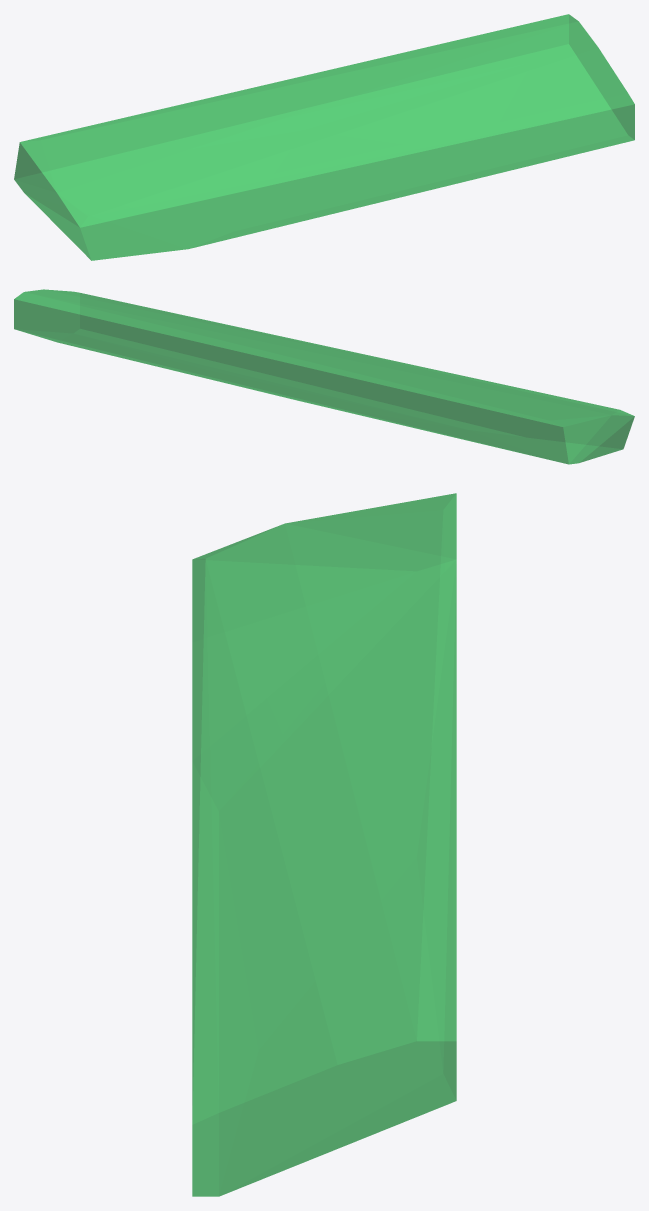
The picture shows the model from 3 angles, top to bottom: view 1: azimuth 30°, elevation 25°; view 2: azimuth 150°, elevation 25°; view 3: azimuth 270°, elevation 25°; orthographic projection. The views are drawn at different scales.
Visible parts, largest first — view 1: Shape_IndexedFaceSet.001_Shape_IndexedFaceSet.13073; view 2: Shape_IndexedFaceSet.001_Shape_IndexedFaceSet.13073; view 3: Shape_IndexedFaceSet.001_Shape_IndexedFaceSet.13073.
Part boxes in pixels (x1,y1,x2,y2): Shape_IndexedFaceSet.001_Shape_IndexedFaceSet.13073: (14, 14, 634, 260); Shape_IndexedFaceSet.001_Shape_IndexedFaceSet.13073: (14, 289, 634, 464); Shape_IndexedFaceSet.001_Shape_IndexedFaceSet.13073: (192, 493, 456, 1196).
Bounding box in the file's own units: 0.22 × 0.0318 × 0.0454.
